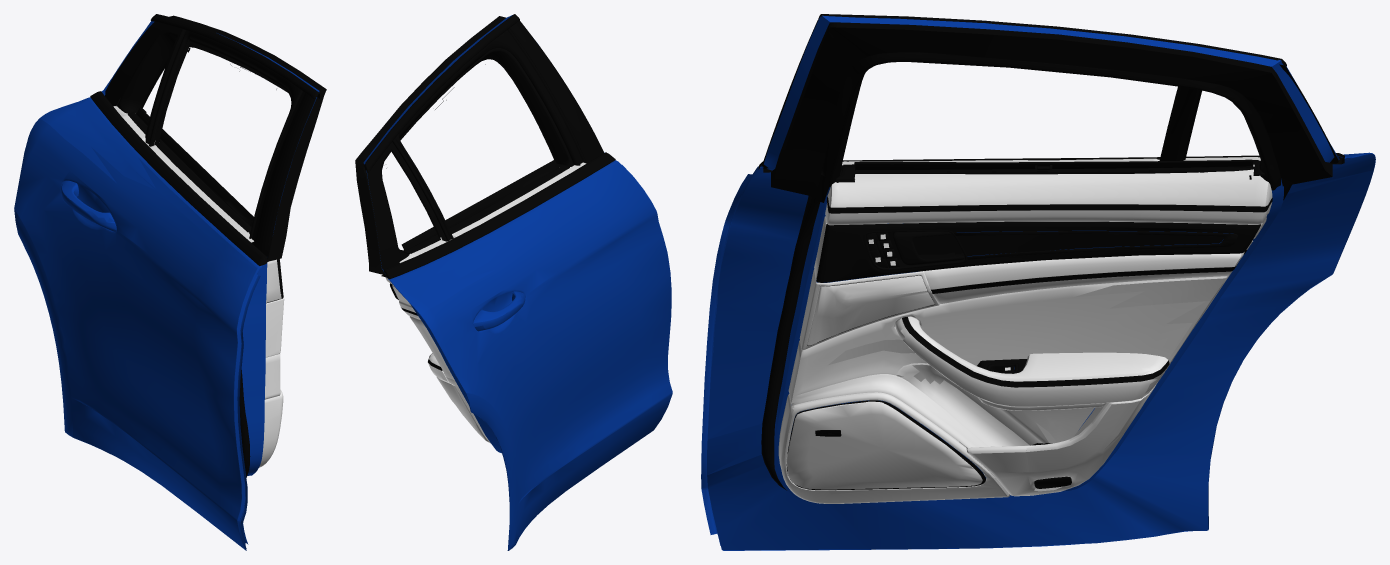
File: Dreapta_Spate_Albastru.fbx
3 views of the same model, side by side, from view 1: azimuth 30°, elevation 25°; view 2: azimuth 150°, elevation 25°; view 3: azimuth 270°, elevation 25° (orthographic). The views are drawn at different scales.
Parts seen in each view (by area): view 1: door_RB, door_rr, door_rrFBXASC046003, door_rrFBXASC046002; view 2: door_RB, door_rr, door_rrFBXASC046003, door_rrFBXASC046002; view 3: door_RB, door_rr, door_rrFBXASC046003, door_rrFBXASC046002, door_rr_005, door_rrFBXASC046004, door_rr_006.
Boxes of the visible parts, x1,y1,x2,y2 form: door_RB: [14, 21, 319, 550]; door_rr: [90, 14, 326, 477]; door_rrFBXASC046003: [259, 259, 284, 467]; door_rrFBXASC046002: [113, 106, 253, 242]; door_RB: [363, 15, 672, 550]; door_rr: [355, 14, 615, 370]; door_rrFBXASC046003: [392, 284, 490, 443]; door_rrFBXASC046002: [385, 162, 586, 284]; door_RB: [701, 15, 1375, 550]; door_rr: [758, 14, 1344, 495]; door_rrFBXASC046003: [778, 215, 1266, 503]; door_rrFBXASC046002: [825, 157, 1272, 225]; door_rr_005: [786, 401, 982, 489]; door_rrFBXASC046004: [895, 316, 1168, 410]; door_rr_006: [807, 275, 934, 345].
Size of the model in its own units: 704 by 1949 by 1947.
